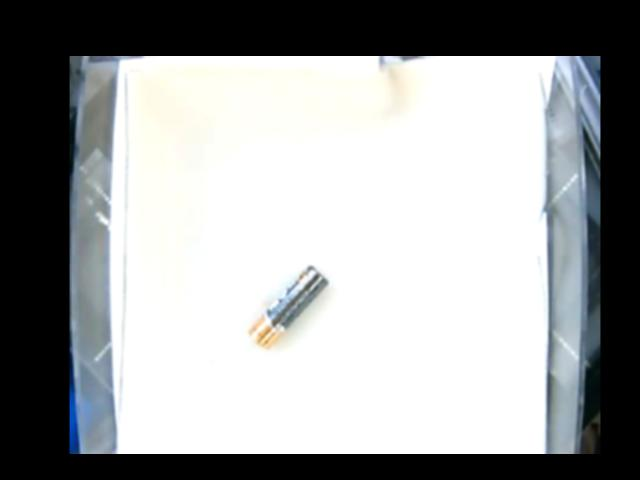Battery: (245, 264, 327, 347)
